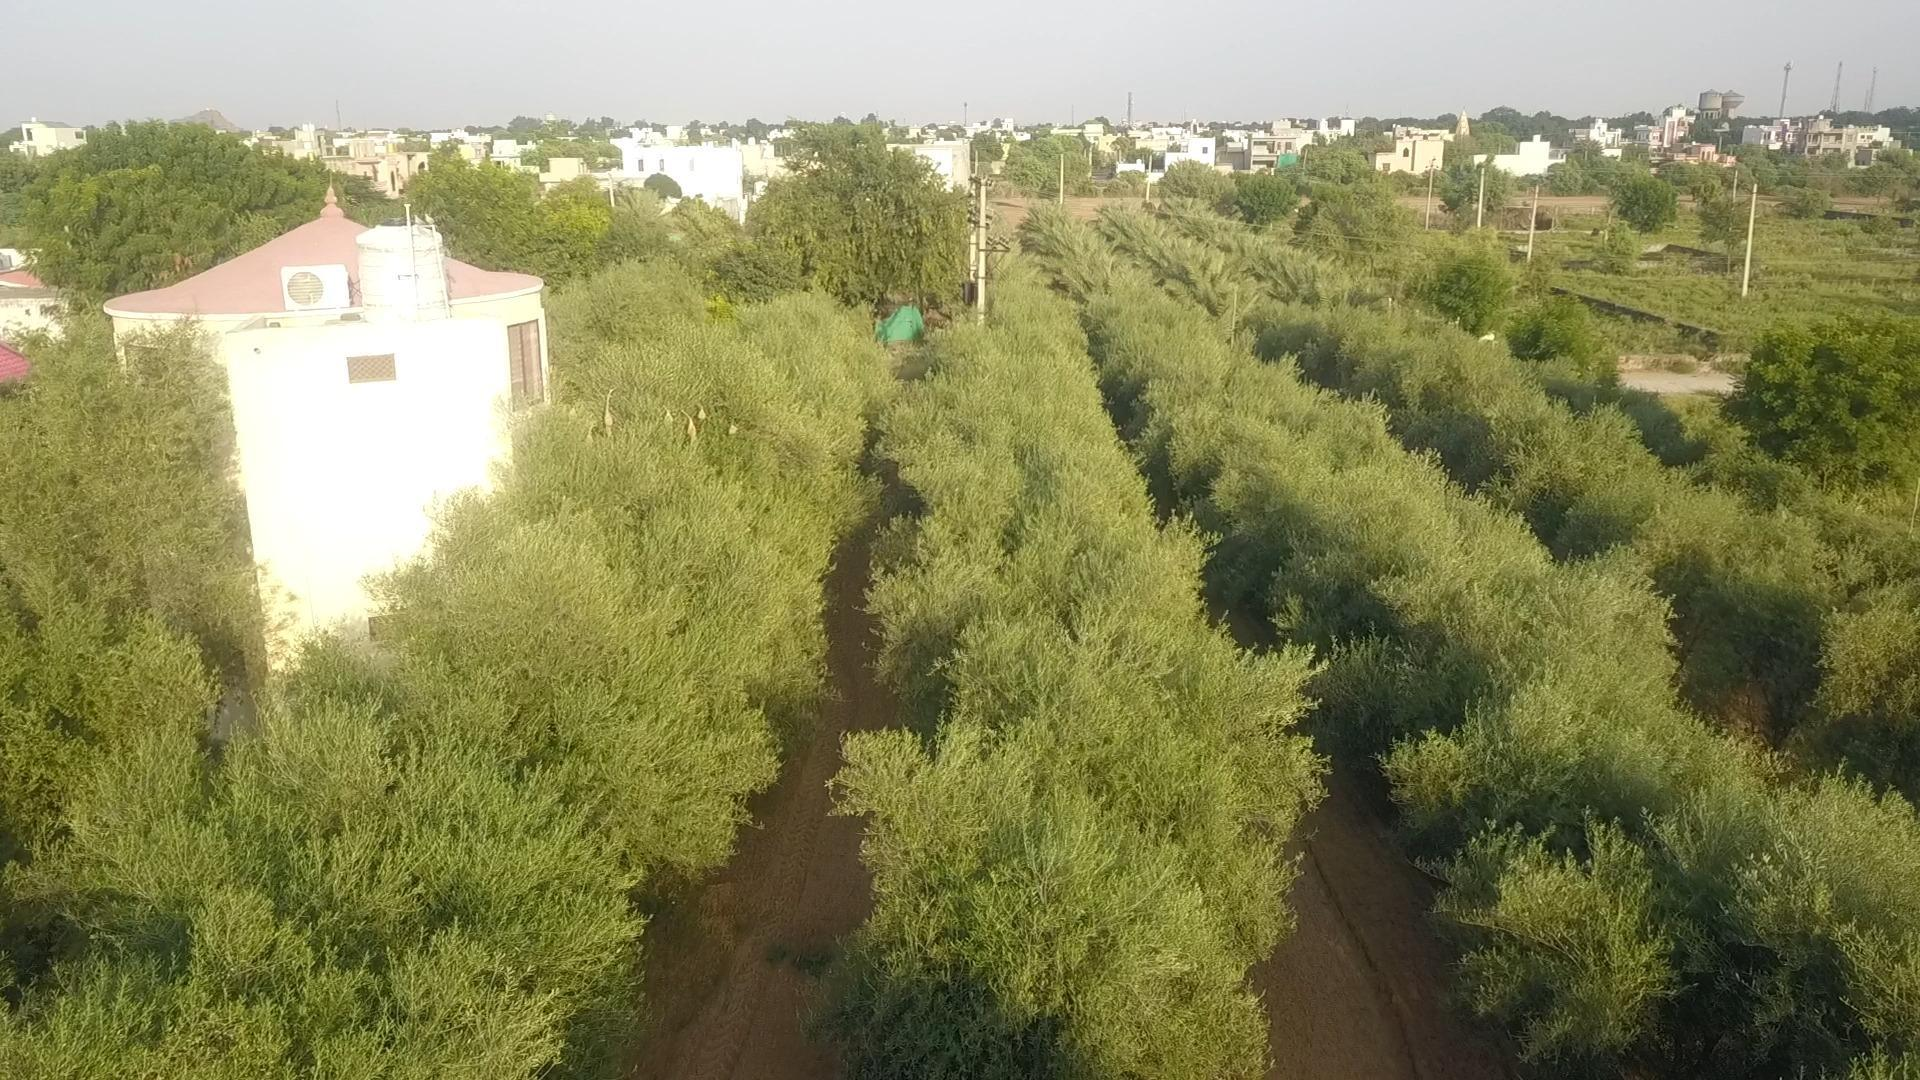canopy: (0, 295, 877, 1079), (1149, 326, 1919, 1052), (833, 305, 1321, 1079), (1258, 302, 1919, 804)
road: (640, 546, 895, 1079), (1250, 765, 1510, 1079)
